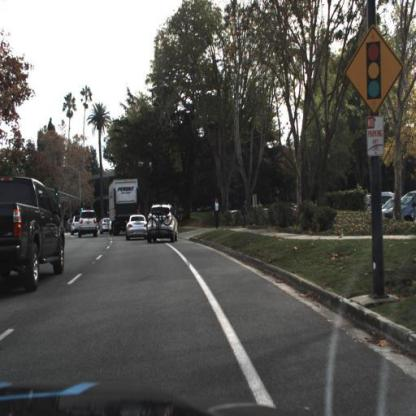car: (1, 169, 69, 292), (364, 192, 416, 223), (146, 203, 180, 243), (126, 211, 150, 244), (79, 208, 100, 240), (78, 209, 100, 237), (71, 215, 83, 237)
pedestrian: (213, 193, 222, 229), (243, 199, 254, 228), (213, 198, 222, 232)
truck: (109, 180, 141, 235)
